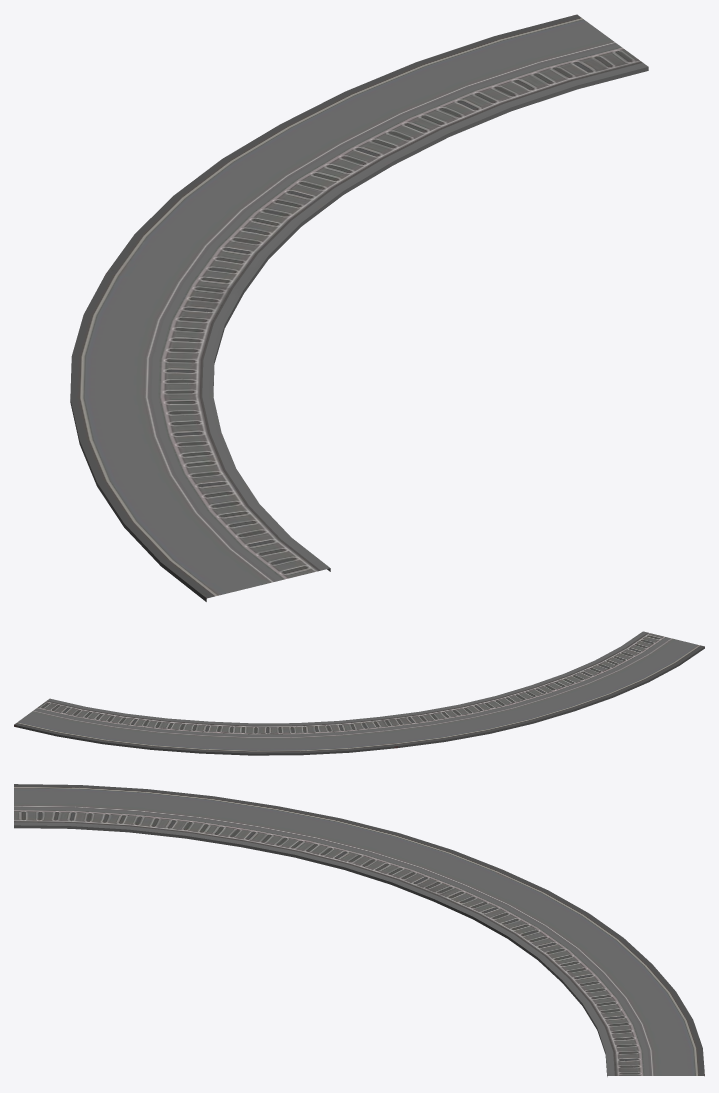
File: BottomMetal_Corner_Round_Outer.glb
The picture shows the model from 3 angles, top to bottom: view 1: azimuth 30°, elevation 25°; view 2: azimuth 150°, elevation 25°; view 3: azimuth 270°, elevation 25°; orthographic projection. The views are drawn at different scales.
Parts seen in each view (by area): view 1: BottomMetal_Corner_Round_Outer; view 2: BottomMetal_Corner_Round_Outer; view 3: BottomMetal_Corner_Round_Outer.
Boxes of the visible parts, x1=… form: BottomMetal_Corner_Round_Outer: x1=70, y1=14, x2=648, y2=601; BottomMetal_Corner_Round_Outer: x1=14, y1=631, x2=704, y2=755; BottomMetal_Corner_Round_Outer: x1=14, y1=784, x2=704, y2=1076.
Size of the model in its own units: 4.6 by 0.0202 by 4.6.
2 materials, 2 textured.
